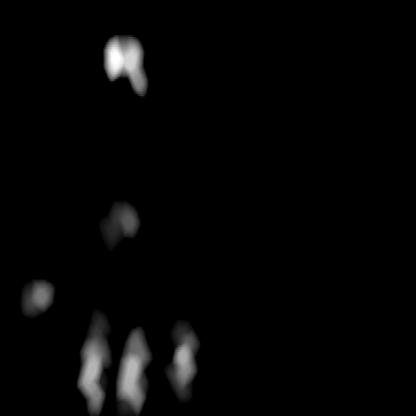fingers: (102, 30, 150, 96)
palm: (23, 280, 198, 409)
